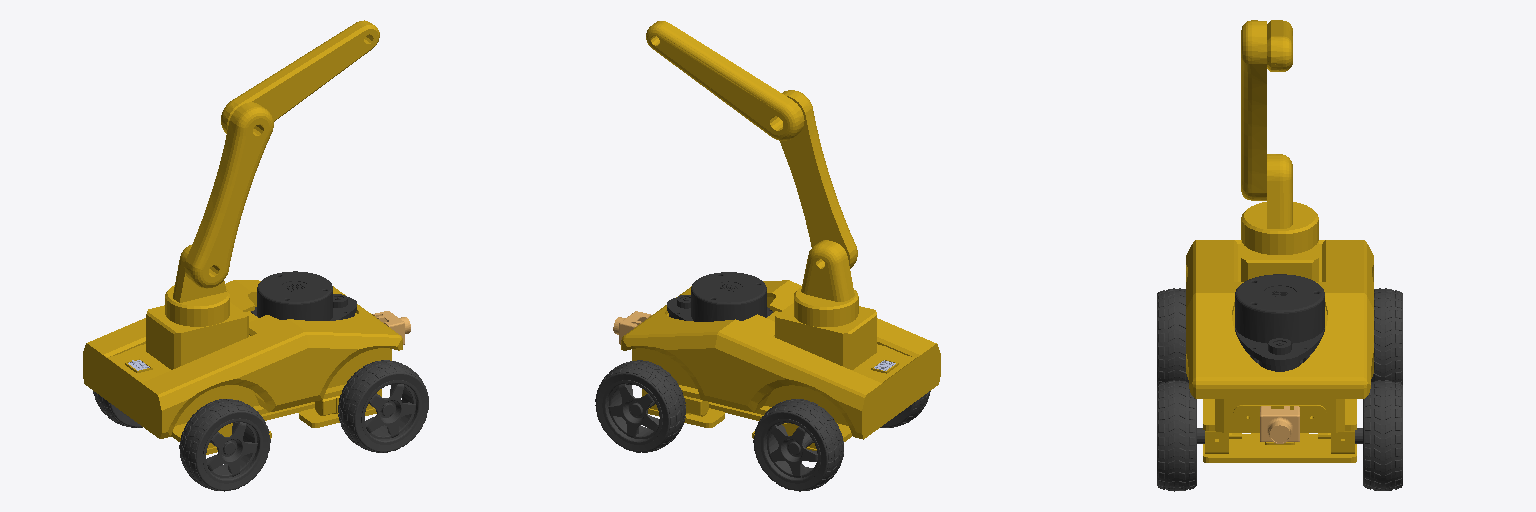
robot.urdf — elon_musk_car:
<?xml version="1.0" encoding="utf-8"?>
<!-- This URDF was automatically created by SolidWorks to URDF Exporter! Originally created by [author] ([email redacted]) 
     Commit Version: 1.6.0-4-g7f85cfe  Build Version: 1.6.7995.38578
     For more information, please see http://wiki.ros.org/sw_urdf_exporter -->
<robot
  name="elon_musk_car">
  <link
    name="base_link">
    <inertial>
      <origin
        xyz="-0.0248489579671259 -1.69844779697725E-05 0.0595015198553598"
        rpy="0 0 0" />
      <mass
        value="1.07304100169638" />
      <inertia
        ixx="0.00185580886331691"
        ixy="3.12605392585196E-07"
        ixz="-5.60262178799118E-05"
        iyy="0.00450498080335361"
        iyz="8.92348407742513E-07"
        izz="0.00573561869820229" />
    </inertial>
    <visual>
      <origin
        xyz="0 0 0"
        rpy="0 0 0" />
      <geometry>
        <mesh
          filename="package://elon_musk_car/meshes/base_link.STL" />
      </geometry>
      <material
        name="">
        <color
          rgba="0.831372549019608 0.670588235294118 0.129411764705882 1" />
      </material>
    </visual>
    <collision>
      <origin
        xyz="0 0 0"
        rpy="0 0 0" />
      <geometry>
        <mesh
          filename="package://elon_musk_car/meshes/base_link.STL" />
      </geometry>
    </collision>
  </link>
  <link
    name="traiduoi">
    <inertial>
      <origin
        xyz="1.12801188736911E-08 -0.00907479627188329 -1.48281719958288E-08"
        rpy="0 0 0" />
      <mass
        value="0.0521078133004598" />
      <inertia
        ixx="3.28190540725205E-05"
        ixy="-9.48347094999047E-13"
        ixz="-9.02704512031813E-10"
        iyy="5.52101334726658E-05"
        iyz="1.24402576673555E-12"
        izz="3.28192928378622E-05" />
    </inertial>
    <visual>
      <origin
        xyz="0 0 0"
        rpy="0 0 0" />
      <geometry>
        <mesh
          filename="package://elon_musk_car/meshes/traiduoi.STL" />
      </geometry>
      <material
        name="">
        <color
          rgba="0.298039215686275 0.298039215686275 0.298039215686275 1" />
      </material>
    </visual>
    <collision>
      <origin
        xyz="0 0 0"
        rpy="0 0 0" />
      <geometry>
        <mesh
          filename="package://elon_musk_car/meshes/traiduoi.STL" />
      </geometry>
    </collision>
  </link>
  <joint
    name="traiduoi_jt"
    type="continuous">
    <origin
      xyz="-0.0842500000002616 0.089625 0.0113156378829189"
      rpy="0 0 0" />
    <parent
      link="base_link" />
    <child
      link="traiduoi" />
    <axis
      xyz="0 1 0" />
  </joint>
  <link
    name="phaiduoi">
    <inertial>
      <origin
        xyz="1.25285689461796E-09 0.00907479627188298 1.85888698739367E-08"
        rpy="0 0 0" />
      <mass
        value="0.0521078133004657" />
      <inertia
        ixx="3.28182966727171E-05"
        ixy="1.06769615106998E-13"
        ixz="2.45723743418195E-10"
        iyy="5.5210133472672E-05"
        iyz="1.56062810555671E-12"
        izz="3.28200502376713E-05" />
    </inertial>
    <visual>
      <origin
        xyz="0 0 0"
        rpy="0 0 0" />
      <geometry>
        <mesh
          filename="package://elon_musk_car/meshes/phaiduoi.STL" />
      </geometry>
      <material
        name="">
        <color
          rgba="0.298039215686275 0.298039215686275 0.298039215686275 1" />
      </material>
    </visual>
    <collision>
      <origin
        xyz="0 0 0"
        rpy="0 0 0" />
      <geometry>
        <mesh
          filename="package://elon_musk_car/meshes/phaiduoi.STL" />
      </geometry>
    </collision>
  </link>
  <joint
    name="phaiduoi_jt"
    type="continuous">
    <origin
      xyz="-0.084250000000344 -0.089625 0.0113156378831937"
      rpy="0 0 0" />
    <parent
      link="base_link" />
    <child
      link="phaiduoi" />
    <axis
      xyz="0 1 0" />
  </joint>
  <link
    name="traitren">
    <inertial>
      <origin
        xyz="1.55709193594422E-08 -0.00907479627188237 -1.02304585497537E-08"
        rpy="0 0 0" />
      <mass
        value="0.0521078133004729" />
      <inertia
        ixx="3.28196469526073E-05"
        ixy="-1.30821560234278E-12"
        ixz="-7.77771096015315E-10"
        iyy="5.521013347268E-05"
        iyz="8.57635029502247E-13"
        izz="3.28186999577899E-05" />
    </inertial>
    <visual>
      <origin
        xyz="0 0 0"
        rpy="0 0 0" />
      <geometry>
        <mesh
          filename="package://elon_musk_car/meshes/traitren.STL" />
      </geometry>
      <material
        name="">
        <color
          rgba="0.298039215686275 0.298039215686275 0.298039215686275 1" />
      </material>
    </visual>
    <collision>
      <origin
        xyz="0 0 0"
        rpy="0 0 0" />
      <geometry>
        <mesh
          filename="package://elon_musk_car/meshes/traitren.STL" />
      </geometry>
    </collision>
  </link>
  <joint
    name="traitren_jt"
    type="continuous">
    <origin
      xyz="0.0842499999998293 0.089625 0.0113156378828449"
      rpy="0 0 0" />
    <parent
      link="base_link" />
    <child
      link="traitren" />
    <axis
      xyz="0 0.999999731823558 0.00073236112126337" />
  </joint>
  <link
    name="phaitren">
    <inertial>
      <origin
        xyz="1.79235902231234E-08 0.00907479627188346 5.08636011087304E-09"
        rpy="0 0 0" />
      <mass
        value="0.0521078133004571" />
      <inertia
        ixx="3.28200069638325E-05"
        ixy="1.50529068461448E-12"
        ixz="3.66593789169686E-10"
        iyy="5.52101334726631E-05"
        iyz="4.25515881150075E-13"
        izz="3.28183399465464E-05" />
    </inertial>
    <visual>
      <origin
        xyz="0 0 0"
        rpy="0 0 0" />
      <geometry>
        <mesh
          filename="package://elon_musk_car/meshes/phaitren.STL" />
      </geometry>
      <material
        name="">
        <color
          rgba="0.298039215686275 0.298039215686275 0.298039215686275 1" />
      </material>
    </visual>
    <collision>
      <origin
        xyz="0 0 0"
        rpy="0 0 0" />
      <geometry>
        <mesh
          filename="package://elon_musk_car/meshes/phaitren.STL" />
      </geometry>
    </collision>
  </link>
  <joint
    name="phaitren_jt"
    type="continuous">
    <origin
      xyz="0.08425 -0.089625 0.011184"
      rpy="0 0 0" />
    <parent
      link="base_link" />
    <child
      link="phaitren" />
    <axis
      xyz="0 1 0.00073236" />
  </joint>
  <link
    name="truc1">
    <inertial>
      <origin
        xyz="0.0533181945720658 -0.00959003139334669 0.0453560373883681"
        rpy="0 0 0" />
      <mass
        value="0.108511590245375" />
      <inertia
        ixx="0.000127329624285286"
        ixy="-9.49294539450881E-12"
        ixz="-0.000133704438877886"
        iyy="0.000291291060775154"
        iyz="-4.06646426432114E-12"
        izz="0.000170767608899266" />
    </inertial>
    <visual>
      <origin
        xyz="0 0 0"
        rpy="0 0 0" />
      <geometry>
        <mesh
          filename="package://elon_musk_car/meshes/truc1.STL" />
      </geometry>
      <material
        name="">
        <color
          rgba="0.831372549019608 0.670588235294118 0.129411764705882 1" />
      </material>
    </visual>
    <collision>
      <origin
        xyz="0 0 0"
        rpy="0 0 0" />
      <geometry>
        <mesh
          filename="package://elon_musk_car/meshes/truc1.STL" />
      </geometry>
    </collision>
  </link>
  <joint
    name="truc1_jt"
    type="revolute">
    <origin
      xyz="-0.067056 -0.01 0.16393"
      rpy="0 -0.5236 0" />
    <parent
      link="base_link" />
    <child
      link="truc1" />
    <axis
      xyz="0 1 0" />
    <limit
      lower="-1.5"
      upper="1"
      effort="5"
      velocity="1" />
  </joint>
  <link
    name="truc2">
    <inertial>
      <origin
        xyz="0.0573218605022251 0.00973273237026839 -0.0234797350529898"
        rpy="0 0 0" />
      <mass
        value="0.100138675077548" />
      <inertia
        ixx="4.14451577467379E-05"
        ixy="7.90091994280198E-08"
        ixz="7.14211200024037E-05"
        iyy="0.000221871143736014"
        iyz="-3.23784009562632E-08"
        izz="0.000186552928423222" />
    </inertial>
    <visual>
      <origin
        xyz="0 0 0"
        rpy="0 0 0" />
      <geometry>
        <mesh
          filename="package://elon_musk_car/meshes/truc2.STL" />
      </geometry>
      <material
        name="">
        <color
          rgba="0.831372549019608 0.670588235294118 0.129411764705882 1" />
      </material>
    </visual>
    <collision>
      <origin
        xyz="0 0 0"
        rpy="0 0 0" />
      <geometry>
        <mesh
          filename="package://elon_musk_car/meshes/truc2.STL" />
      </geometry>
    </collision>
  </link>
  <joint
    name="truc2_jt"
    type="revolute">
    <origin
      xyz="0.106636389144134 0 0.0907120747767362"
      rpy="0 -0.2618 0" />
    <parent
      link="truc1" />
    <child
      link="truc2" />
    <axis
      xyz="0 1 0" />
    <limit
      lower="-1.5"
      upper="1"
      effort="5"
      velocity="1" />
  </joint>
  <link
    name="imu">
    <inertial>
      <origin
        xyz="-6.68985725750804E-05 0.000170855890153421 -0.00067929222391197"
        rpy="0 0 0" />
      <mass
        value="0.0004529996914439" />
      <inertia
        ixx="1.17080889572944E-08"
        ixy="-5.09802080398037E-15"
        ixz="-3.97332758659873E-16"
        iyy="5.34815547364709E-09"
        iyz="-7.20405912899209E-16"
        izz="1.6875100792001E-08" />
    </inertial>
    <visual>
      <origin
        xyz="0 0 0"
        rpy="0 0 0" />
      <geometry>
        <mesh
          filename="package://elon_musk_car/meshes/imu.STL" />
      </geometry>
      <material
        name="">
        <color
          rgba="0.792156862745098 0.819607843137255 0.933333333333333 1" />
      </material>
    </visual>
    <collision>
      <origin
        xyz="0 0 0"
        rpy="0 0 0" />
      <geometry>
        <mesh
          filename="package://elon_musk_car/meshes/imu.STL" />
      </geometry>
    </collision>
  </link>
  <joint
    name="imu_jt"
    type="fixed">
    <origin
      xyz="-0.12975 0.00015956 0.070527"
      rpy="0 0 0" />
    <parent
      link="base_link" />
    <child
      link="imu" />
    <axis
      xyz="0 0 0" />
  </joint>
  <link
    name="lidar">
    <inertial>
      <origin
        xyz="-0.00748346988333637 -9.19261110875202E-05 -0.0297280760651208"
        rpy="0 0 0" />
      <mass
        value="1.33076913637071" />
      <inertia
        ixx="0.00061491794045409"
        ixy="-8.01984318975285E-07"
        ixz="0.00015824302591117"
        iyy="0.000960697335617222"
        iyz="-3.0916298658758E-06"
        izz="0.00109815200027136" />
    </inertial>
    <visual>
      <origin
        xyz="0 0 0"
        rpy="0 0 0" />
      <geometry>
        <mesh
          filename="package://elon_musk_car/meshes/lidar.STL" />
      </geometry>
      <material
        name="">
        <color
          rgba="0.250980392156863 0.250980392156863 0.250980392156863 1" />
      </material>
    </visual>
    <collision>
      <origin
        xyz="0 0 0"
        rpy="0 0 0" />
      <geometry>
        <mesh
          filename="package://elon_musk_car/meshes/lidar.STL" />
      </geometry>
    </collision>
  </link>
  <joint
    name="lidar_jt"
    type="fixed">
    <origin
      xyz="0.05075 0 0.11892"
      rpy="0 0 0" />
    <parent
      link="base_link" />
    <child
      link="lidar" />
    <axis
      xyz="0 0 0" />
  </joint>
  <link
    name="camera">
    <inertial>
      <origin
        xyz="-0.0104719793283222 -1.35431902550109E-05 -0.000101038487187566"
        rpy="0 0 0" />
      <mass
        value="0.00511234868100241" />
      <inertia
        ixx="6.22026605833524E-07"
        ixy="-1.40839446300285E-09"
        ixz="-1.19148777131332E-08"
        iyy="4.54335524710268E-07"
        iyz="1.42394873810616E-09"
        izz="6.01477590970195E-07" />
    </inertial>
    <visual>
      <origin
        xyz="0 0 0"
        rpy="0 0 0" />
      <geometry>
        <mesh
          filename="package://elon_musk_car/meshes/camera.STL" />
      </geometry>
      <material
        name="">
        <color
          rgba="0.901960784313726 0.709803921568627 0.43921568627451 1" />
      </material>
    </visual>
    <collision>
      <origin
        xyz="0 0 0"
        rpy="0 0 0" />
      <geometry>
        <mesh
          filename="package://elon_musk_car/meshes/camera.STL" />
      </geometry>
    </collision>
  </link>
  <joint
    name="camera_jt"
    type="fixed">
    <origin
      xyz="0.153828045195748 0 0.0450277243285144"
      rpy="0 0 0" />
    <parent
      link="base_link" />
    <child
      link="camera" />
    <axis
      xyz="0 0 0" />
  </joint>

  <gazebo>
    <plugin name="skid_steer_drive_controller" filename="libgazebo_ros_skid_steer_drive.so">
      <updateRate>100.0</updateRate>
      <robotNamespace>/</robotNamespace>
      <leftFrontJoint>traitren_jt</leftFrontJoint>
      <rightFrontJoint>phaitren_jt</rightFrontJoint>
      <leftRearJoint>traiduoi_jt</leftRearJoint>
      <rightRearJoint>phaiduoi_jt</rightRearJoint>
      <wheelSeparation>0.15</wheelSeparation>      
      <wheelDiameter>0.09</wheelDiameter>       
      <robotBaseFrame>base_link</robotBaseFrame>
      <torque>20</torque>
        <commandTopic>/cmd_vel</commandTopic>
      <broadcastTF>false</broadcastTF>
    </plugin>
  </gazebo>

  <gazebo reference="camera">
    <sensor type="camera" name="camera_sensor">
      <always_on>true</always_on>
      <update_rate>30.0</update_rate>
      <camera>
        <horizontal_fov>1.047</horizontal_fov>
        <image>
          <width>640</width>
          <height>480</height>
          <format>R8G8B8</format>
        </image>
        <clip>
          <near>0.1</near>
          <far>100</far>
        </clip>
      </camera>
      <plugin name="gazebo_ros_camera" filename="libgazebo_ros_camera.so">
        <cameraName>camera</cameraName>
        <imageTopicName>image_raw</imageTopicName>
        <cameraInfoTopicName>camera_info</cameraInfoTopicName>
        <frameName>camera</frameName>
      </plugin>
    </sensor>
  </gazebo>

  <gazebo reference="imu">
    <sensor type="imu" name="imu_sensor">
      <always_on>true</always_on>
      <update_rate>50.0</update_rate>
      <plugin name="imu_plugin" filename="libgazebo_ros_imu_sensor.so">
        <alwaysOn>true</alwaysOn>
        <updateRate>50.0</updateRate>
        <bodyName>imu</bodyName>
        <topicName>imu/data</topicName>
        <frameName>imu</frameName>
      </plugin>
    </sensor>
  </gazebo>

  <gazebo reference="lidar">
    <sensor type="ray" name="lidar_sensor">
      <pose>0 0 0 0 0 0</pose>
      <visualize>true</visualize>
      <update_rate>30</update_rate>
      <ray>
        <scan>
          <horizontal>
            <samples>720</samples>
            <resolution>1</resolution>
            <min_angle>-1.5708</min_angle>
            <max_angle>1.5708</max_angle>
          </horizontal>
        </scan>
        <range>
          <min>0.1</min>
          <max>30.0</max>
          <resolution>0.01</resolution>
        </range>
        <noise>
          <type>gaussian</type>
          <mean>0.0</mean>
          <stddev>0.01</stddev>
        </noise>
      </ray>
      <plugin name="gazebo_ros_laser" filename="libgazebo_ros_laser.so">
        <topicName>/scan</topicName>
        <frameName>lidar</frameName>
      </plugin>
    </sensor>
  </gazebo>

  <transmission name="truc1_trans">
    <type>transmission_interface/SimpleTransmission</type>
    <joint name="truc1_jt">
      <hardwareInterface>hardware_interface/PositionJointInterface</hardwareInterface>
    </joint>
    <actuator name="truc1_motor">
      <mechanicalReduction>1</mechanicalReduction>
    </actuator>
  </transmission>

  <transmission name="truc2_trans">
    <type>transmission_interface/SimpleTransmission</type>
    <joint name="truc2_jt">
      <hardwareInterface>hardware_interface/PositionJointInterface</hardwareInterface>
    </joint>
    <actuator name="truc2_motor">
      <mechanicalReduction>1</mechanicalReduction>
    </actuator>
  </transmission>

  <gazebo>
    <plugin name="gazebo_ros_control" filename="libgazebo_ros_control.so"/>
  </gazebo>

</robot>

--- Facts derived from the render (not from the file) ---
The picture shows the robot from 3 angles, left to right: view 1: azimuth 30°, elevation 25°; view 2: azimuth 150°, elevation 25°; view 3: azimuth 270°, elevation 25°; orthographic projection.
Model elon_musk_car with 10 links and 9 joints (2 revolute, 4 continuous, 3 fixed), rooted at base_link, posed every joint at zero.
Links seen in each view (by area): view 1: base_link, truc1, phaitren, phaiduoi, truc2, lidar, traiduoi; view 2: base_link, truc2, traitren, traiduoi, truc1, lidar, phaiduoi; view 3: base_link, lidar, truc1, traitren, phaitren, phaiduoi, traiduoi, camera, truc2.
Boxes of the visible links, x1,y1,x2,y2 form: base_link: (83,245,402,454); truc1: (184,102,273,288); phaitren: (338,360,428,452); phaiduoi: (179,399,270,491); truc2: (221,20,379,133); lidar: (251,271,356,320); traiduoi: (93,391,142,427); base_link: (621,240,940,450); truc2: (646,21,804,140); traitren: (595,360,685,452); traiduoi: (753,399,843,491); truc1: (779,90,857,268); lidar: (667,272,772,321); phaiduoi: (880,391,930,427); base_link: (1186,154,1373,462); lidar: (1235,274,1324,371); truc1: (1241,20,1266,200); traitren: (1355,380,1402,490); phaitren: (1157,380,1204,491); phaiduoi: (1157,288,1188,384); traiduoi: (1371,288,1402,384); camera: (1260,406,1299,443); truc2: (1267,20,1292,71).
Size in the robot's own frame: 0.3022 by 0.1908 by 0.3953 metres.
10 mesh visuals loaded from 10 distinct referenced files (10 binary STL).
